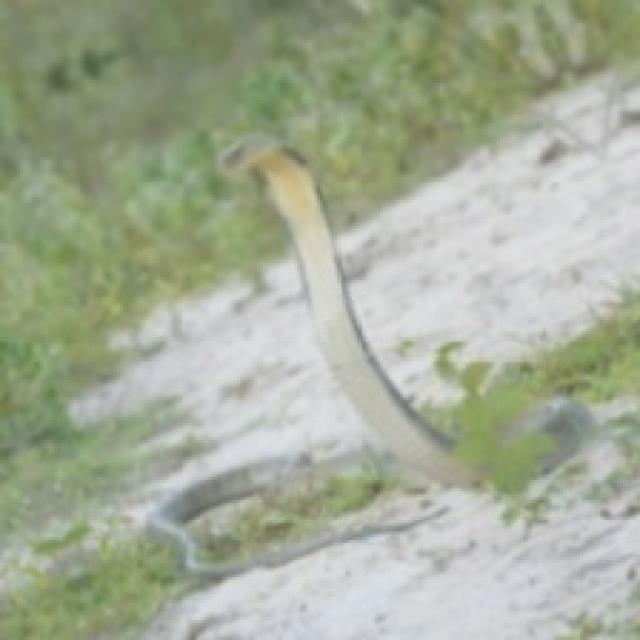king cobra: (237, 149, 480, 486)
